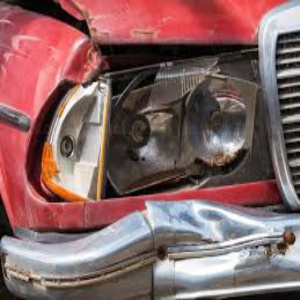tail_lights: (36, 65, 258, 195)
